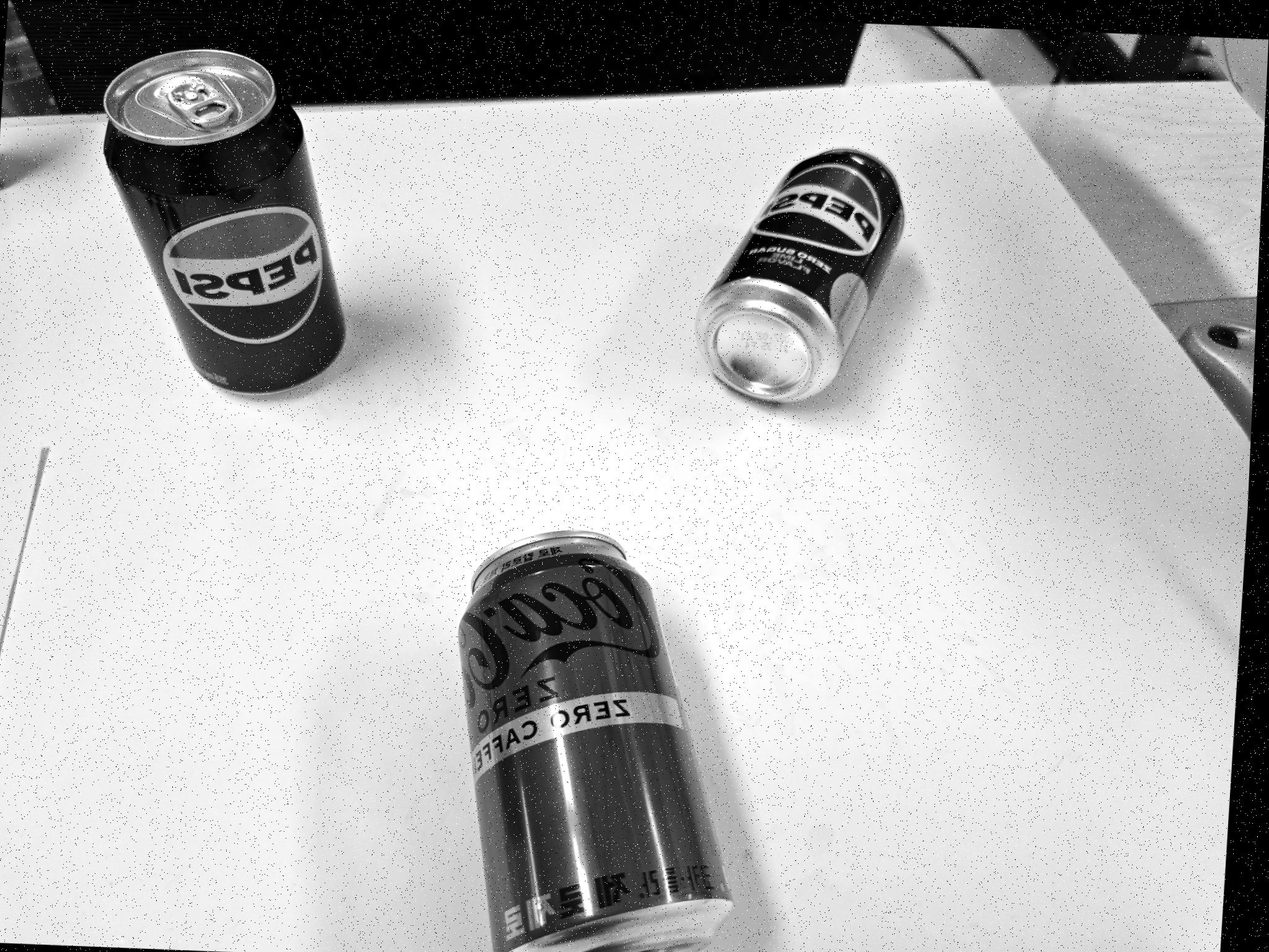can_coke_decaf: (458, 534, 733, 952)
can_pepsi: (102, 51, 345, 395)
can_pepsi_zero: (702, 151, 909, 406)
